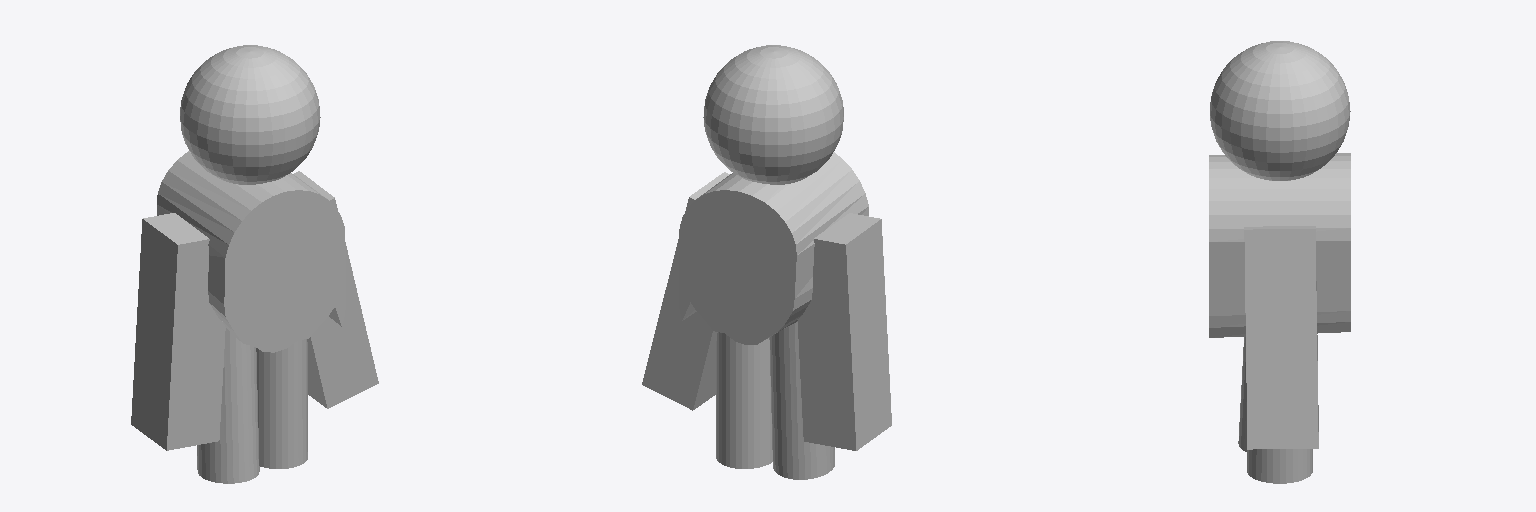
Rendered from Figurine136.obj.
The picture shows the model from 3 angles: view 1: azimuth 30°, elevation 25°; view 2: azimuth 150°, elevation 25°; view 3: azimuth 270°, elevation 25°; orthographic projection.
Visible parts, largest first — view 1: Cylinder; view 2: Cylinder; view 3: Cylinder.
Part boxes in pixels (x1,y1,x2,y2): Cylinder: (131, 45, 378, 483); Cylinder: (642, 45, 891, 479); Cylinder: (1209, 41, 1350, 483).
Size of the model in its own units: 3.49 by 6.44 by 2.